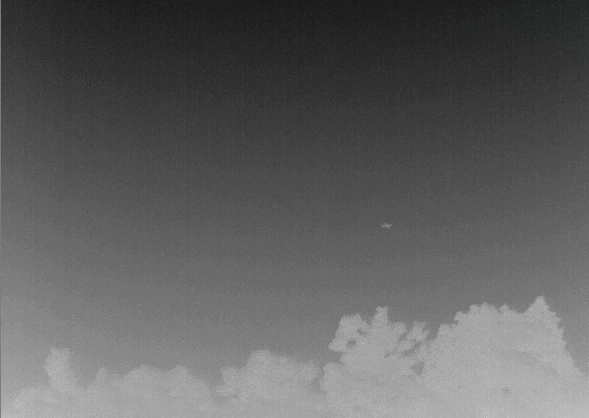dim target: (379, 221, 393, 230)
